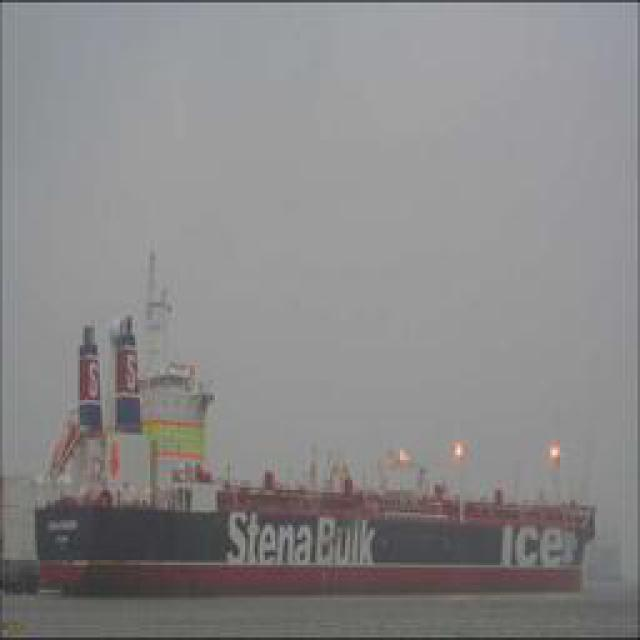Ship: (26, 244, 610, 600)
